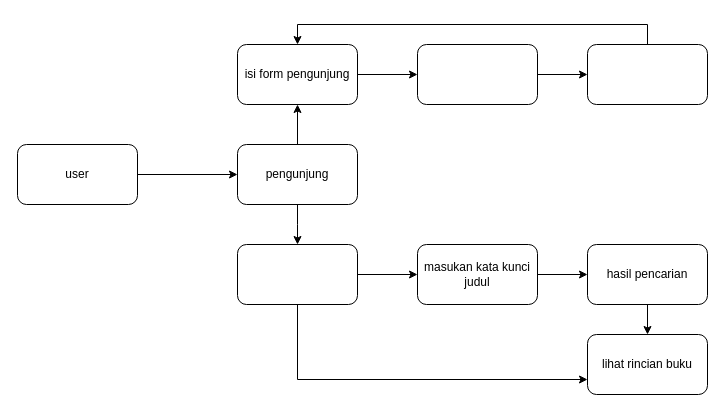
Some shapes in this 725 by 412 pixel diagram are drawn without their labels. Each missing label, with the box of its shape:
daftar kunjungan: (586, 44, 708, 104)
kirim: (416, 44, 538, 104)
pencarian buku: (236, 244, 358, 304)
